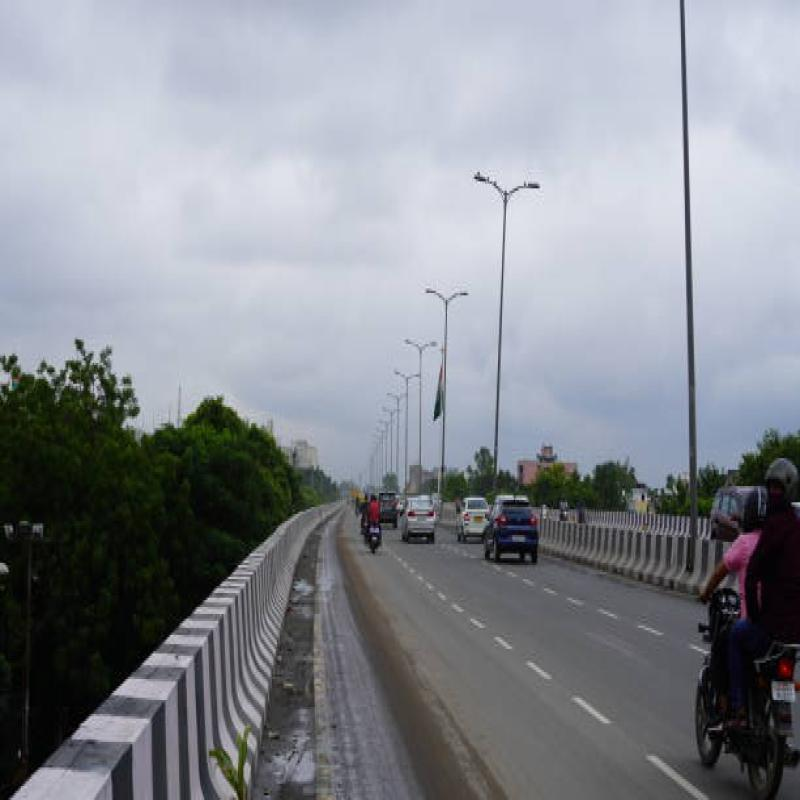bike: (686, 605, 796, 800), (364, 502, 387, 561)
car: (482, 479, 542, 573), (405, 481, 442, 541), (456, 481, 488, 539)
